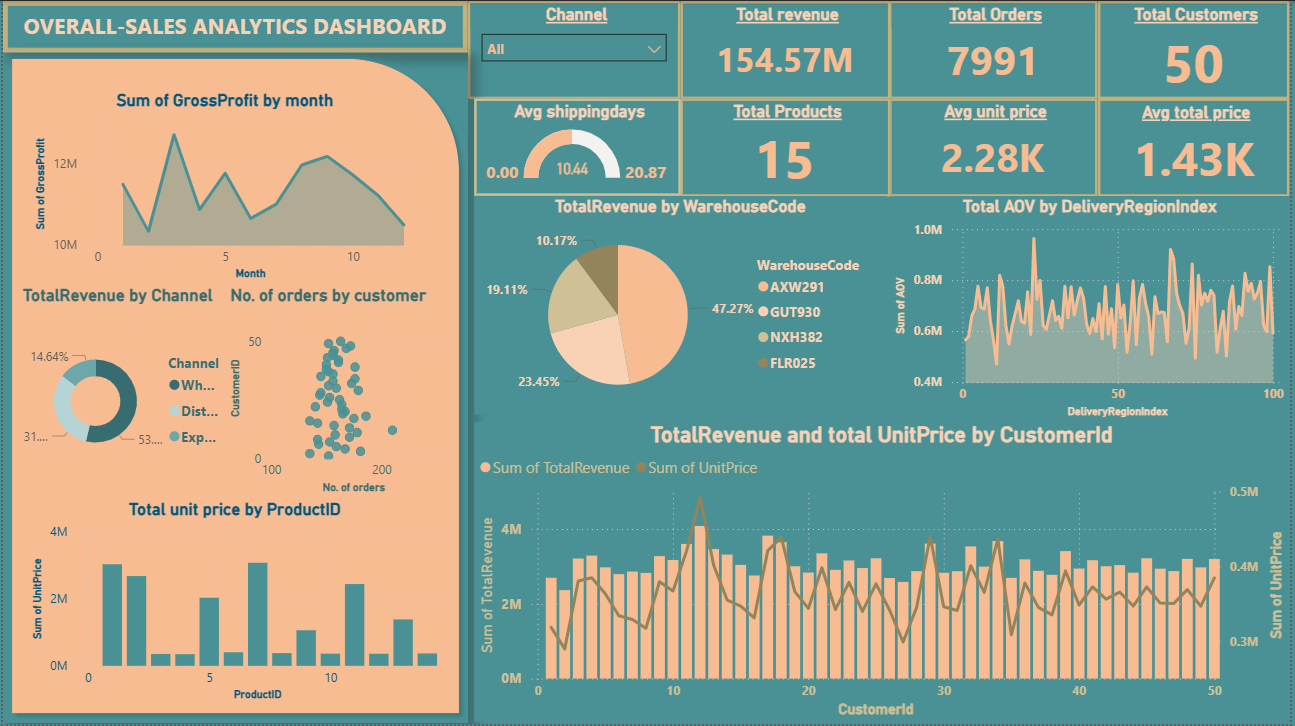

The dashboard page shown, as its layout file describes it:
{"tool":"powerbi","page":{"name":"Page 1","canvas":[1280,720],"ordinal":0},"visuals":[{"type":"textbox","box":[0,0,462.8,51],"z":0},{"type":"slicer","title":"Channel","fields":{"Values":["retailsales salesorders.Channel"]},"box":[462.4,0,211.3,97.4],"z":1000},{"type":"card","title":"Total revenue ","fields":{"Values":["retailsales salesorders.Overall_revenue"]},"box":[673.8,0,208.6,97.4],"z":2000},{"type":"card","title":"Total Orders","fields":{"Values":["Query1.Totalorders"]},"box":[882.3,0,207.2,97.4],"z":3000},{"type":"card","title":"Total Customers ","fields":{"Values":["Query1.TotalCustomers"]},"box":[1089.5,0,190.7,97.4],"z":4000},{"type":"card","title":"Avg total price","fields":{"Values":["retailsales salesorders.Avgcost"]},"box":[1089.5,97.4,190.7,97.4],"z":5000},{"type":"card","title":"Avg unit price ","fields":{"Values":["retailsales salesorders.Avgunit"]},"box":[882.3,97.4,207.2,97.4],"z":6000},{"type":"card","title":"Total Products","fields":{"Values":["retailsales products.totalproducts"]},"box":[673.8,97.4,208.6,97.4],"z":7000},{"type":"shape","box":[0,48.5,462.8,669.3],"z":8000},{"type":"lineChart","fields":{"Category":["Query2.month"],"Y":["Sum(Query2.GrossProfit)"]},"box":[27.4,88.3,386.9,194.1],"z":9000},{"type":"clusteredColumnChart","title":"Total unit price by ProductID","fields":{"Category":["retailsales salesorders.ProductDescriptionIndex"],"Y":["Sum(retailsales salesorders.UnitPrice)"]},"box":[23.6,495.1,414.2,206.5],"z":10000},{"type":"donutChart","title":"TotalRevenue by Channel","fields":{"Category":["retailsales salesorders.Channel"],"Y":["Sum(retailsales salesorders.TotalRevenue)"]},"box":[14.9,282.4,216.4,212.7],"z":11000},{"type":"scatterChart","title":"No. of orders by customer","fields":{"X":["CountNonNull(retailsales salesorders.OrderQuantity)"],"Y":["retailsales salesorders.CustomerNameIndex"]},"box":[221.4,282.4,225.2,212.7],"z":12000},{"type":"lineClusteredColumnComboChart","title":" TotalRevenue and total UnitPrice by CustomerId","fields":{"Category":["retailsales salesorders.CustomerNameIndex"],"Y":["Sum(retailsales salesorders.TotalRevenue)"],"Y2":["Sum(retailsales salesorders.UnitPrice)"]},"box":[469,419.2,811.1,298.6],"z":13000},{"type":"stackedAreaChart","title":"Total AOV by DeliveryRegionIndex","fields":{"Y":["Sum(Query3.AOV)"],"Category":["Query3.DeliveryRegionIndex"]},"box":[883.2,194.1,396.8,225.2],"z":14000},{"type":"gauge","title":"Avg shippingdays ","fields":{"Y":["Avg(retailsales salesorders.Shippingdays)"]},"box":[469,97,205.3,97],"z":15000},{"type":"pieChart","title":"TotalRevenue by WarehouseCode","fields":{"Category":["retailsales salesorders.WarehouseCode"],"Y":["Sum(retailsales salesorders.TotalRevenue)"]},"box":[469,194.1,410.5,217.7],"z":16000}]}

Visuals, with their boxes in screenshot pixels (x1, y1, x2, y2), scaled from the page's 1280x720 canvas onto the 1295x726 screenshot:
textbox: <region>0, 0, 468, 51</region>
"Channel" slicer: <region>468, 0, 682, 98</region>
"Total revenue " card: <region>682, 0, 893, 98</region>
"Total Orders" card: <region>893, 0, 1102, 98</region>
"Total Customers " card: <region>1102, 0, 1294, 98</region>
"Avg total price" card: <region>1102, 98, 1294, 196</region>
"Avg unit price " card: <region>893, 98, 1102, 196</region>
"Total Products" card: <region>682, 98, 893, 196</region>
shape: <region>0, 49, 468, 724</region>
lineChart - Query2.month x Sum(Query2.GrossProfit): <region>28, 89, 419, 285</region>
"Total unit price by ProductID" clusteredColumnChart: <region>24, 499, 443, 707</region>
"TotalRevenue by Channel" donutChart: <region>15, 285, 234, 499</region>
"No. of orders by customer" scatterChart: <region>224, 285, 452, 499</region>
" TotalRevenue and total UnitPrice by CustomerId" lineClusteredColumnComboChart: <region>474, 423, 1294, 724</region>
"Total AOV by DeliveryRegionIndex" stackedAreaChart: <region>894, 196, 1294, 423</region>
"Avg shippingdays " gauge: <region>474, 98, 682, 196</region>
"TotalRevenue by WarehouseCode" pieChart: <region>474, 196, 890, 415</region>
